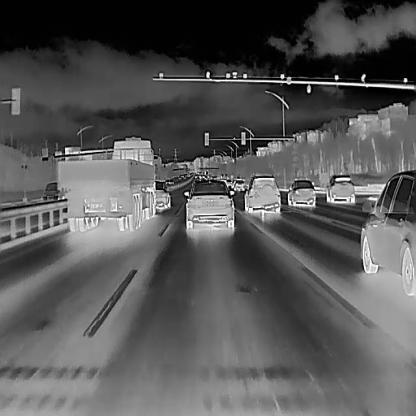car: (56, 137, 156, 231), (360, 168, 416, 296), (182, 180, 235, 232), (241, 174, 282, 213), (325, 174, 355, 204), (286, 178, 316, 207), (153, 178, 170, 213), (42, 180, 60, 204), (232, 178, 244, 190), (164, 177, 173, 186)
